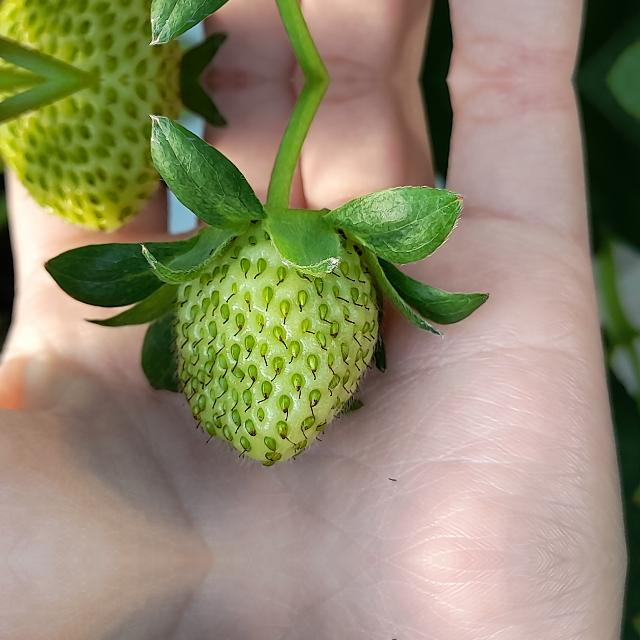Health_25: (169, 222, 385, 466)
